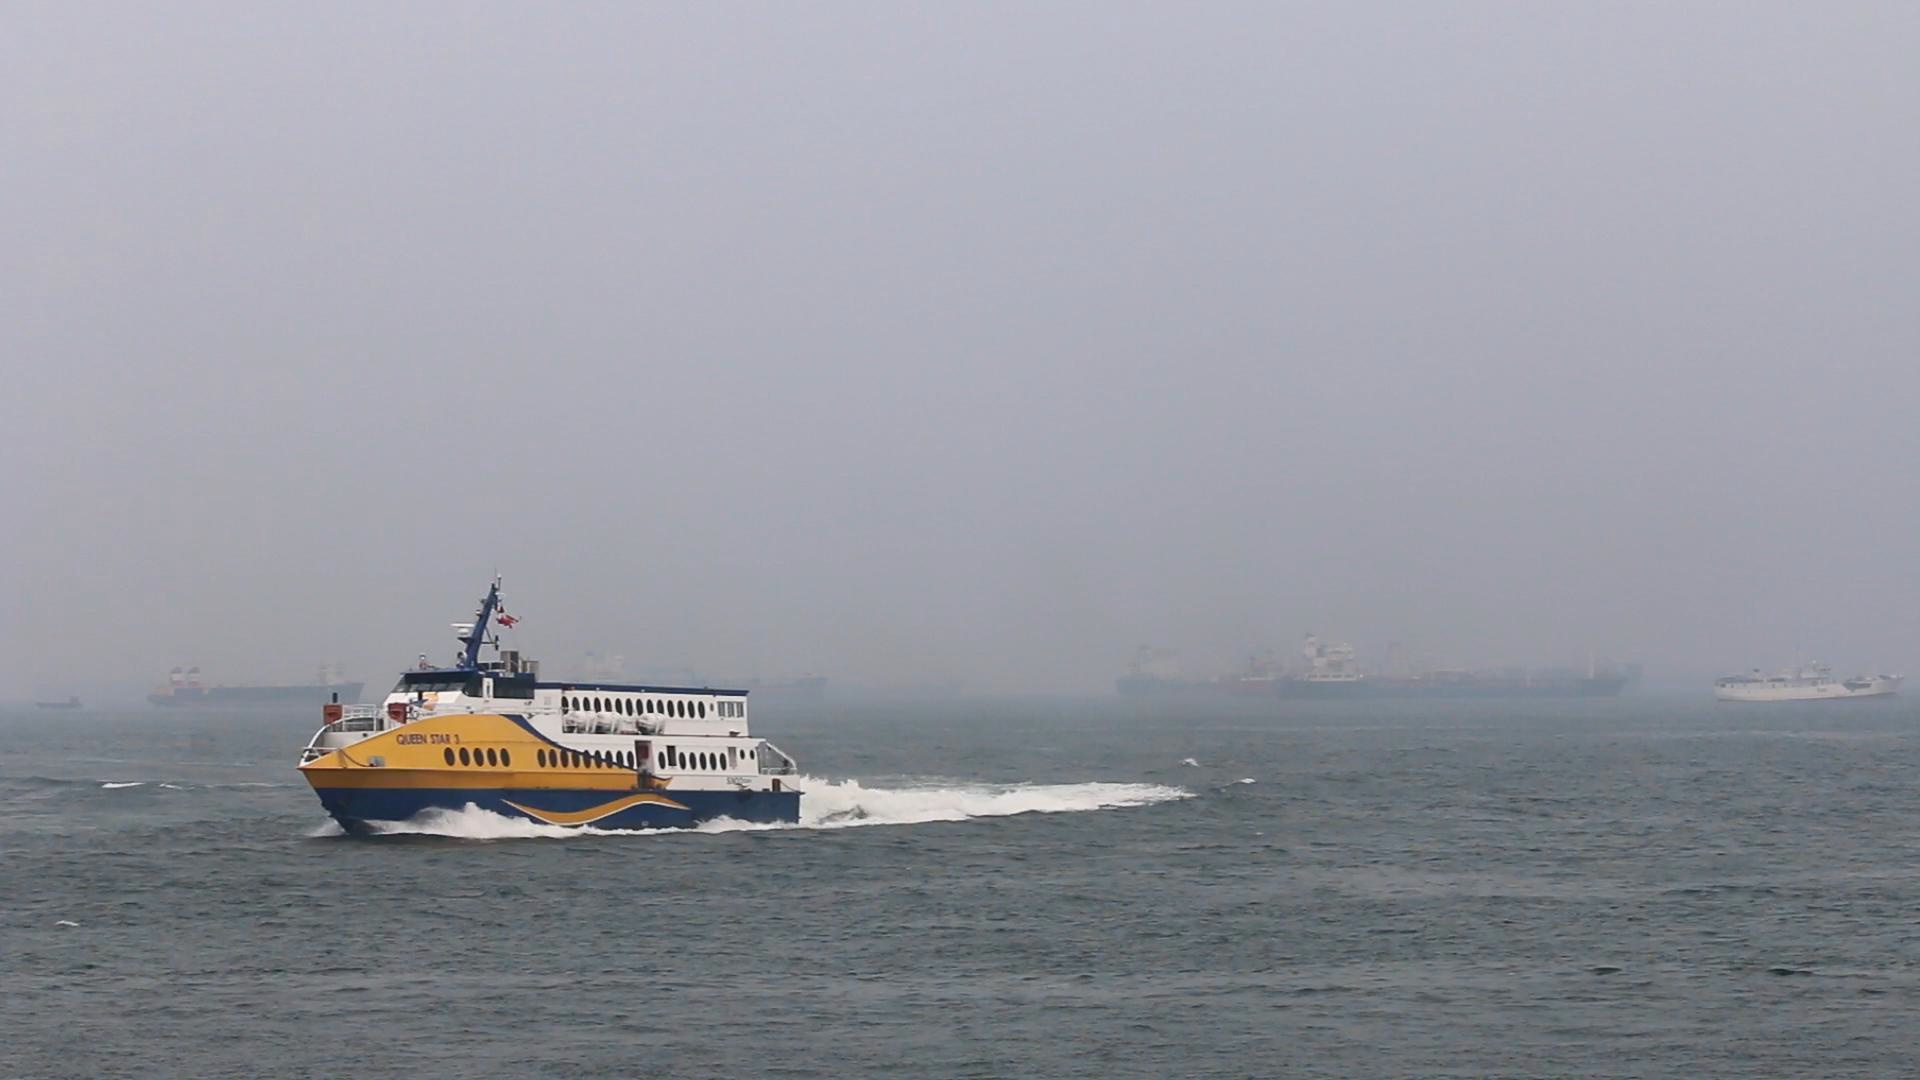Container Ship: (1295, 640, 1638, 704), (566, 654, 835, 690), (146, 670, 372, 712), (1710, 659, 1909, 707), (1105, 650, 1240, 704), (1245, 662, 1290, 703), (36, 691, 88, 713)
